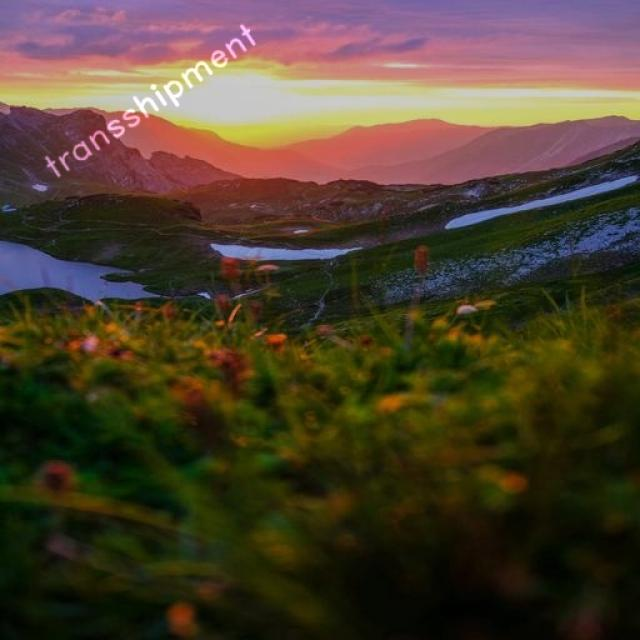watermark: (45, 14, 259, 184)
